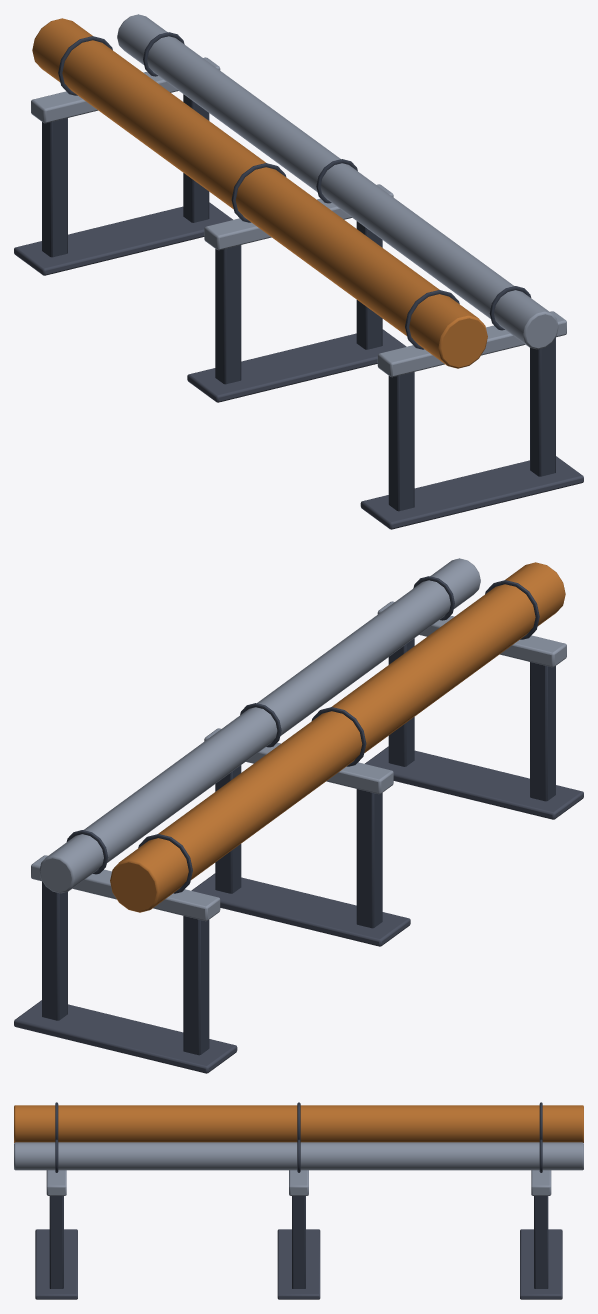
Rendered from pipeline_trasse.fbx.
The picture shows the model from 3 angles, top to bottom: view 1: azimuth 30°, elevation 25°; view 2: azimuth 150°, elevation 25°; view 3: azimuth 270°, elevation 25°; orthographic projection. The views are drawn at different scales.
Visible parts, largest first — view 1: pipeline_trasse_Koerper; view 2: pipeline_trasse_Koerper; view 3: pipeline_trasse_Koerper.
Part boxes in pixels (left/top/right/bottom): pipeline_trasse_Koerper: left=14, top=14, right=583, bottom=529; pipeline_trasse_Koerper: left=14, top=558, right=583, bottom=1073; pipeline_trasse_Koerper: left=14, top=1102, right=583, bottom=1299.
Bounding box in the file's own units: 1.1 × 1.16 × 4.
